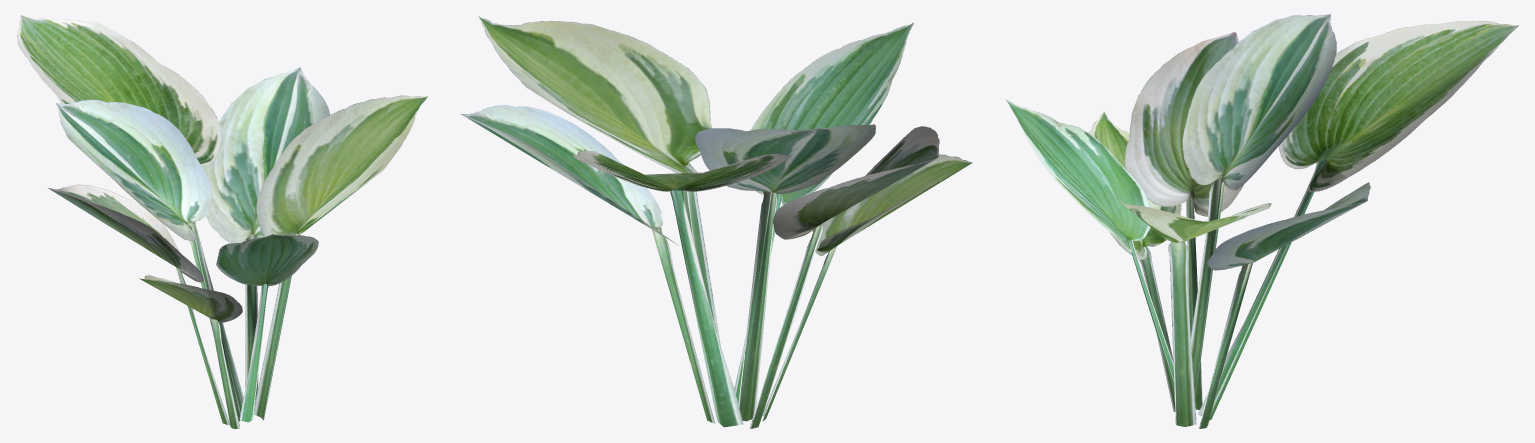
The model's file is plant_small_wg_00Z_wild.fbx.
3 renders of one model, left to right at view 1: azimuth 30°, elevation 25°; view 2: azimuth 150°, elevation 25°; view 3: azimuth 270°, elevation 25°, orthographic. The views are drawn at different scales.
Parts seen in each view (by area): view 1: plant_small_wg_00Z_wild; view 2: plant_small_wg_00Z_wild; view 3: plant_small_wg_00Z_wild.
Part boxes in pixels (x1,y1,x2,y2): plant_small_wg_00Z_wild: [17, 15, 428, 428]; plant_small_wg_00Z_wild: [460, 16, 972, 428]; plant_small_wg_00Z_wild: [1006, 14, 1518, 428].
Size of the model in its own units: 59.35 by 48.2 by 63.89.
